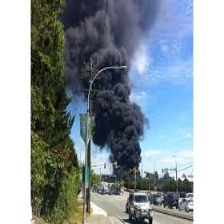smoke: (61, 1, 150, 169)
